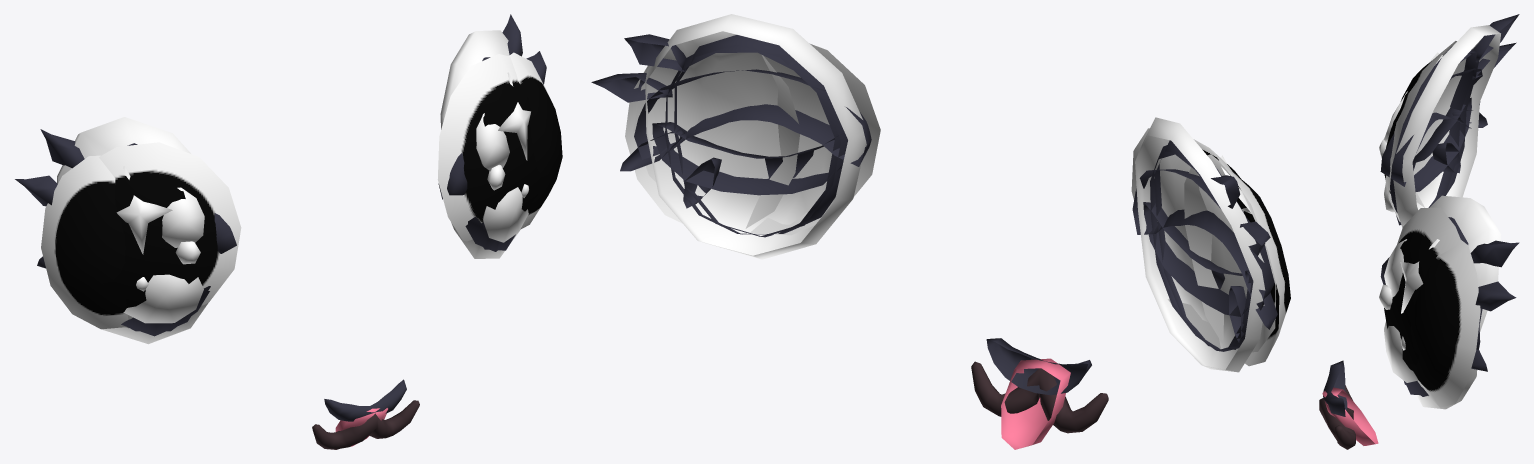
File: bear-attachments-face-alts.fbx
3 renders of one model, left to right at view 1: azimuth 30°, elevation 25°; view 2: azimuth 150°, elevation 25°; view 3: azimuth 270°, elevation 25°, orthographic. The views are drawn at different scales.
Parts seen in each view (by area): view 1: Bear__EyeL_AltRound, Bear__EyeL_AltSmallWide, Bear__EyeR_AltRound, Bear__EyeR_AltSmallWide, Bear__EyeL_AltSparkle_White, Bear__EyeL_AltSparkle_Iris, Bear__EyeR_AltSparkle_White, Bear__Mouth_AltW, Bear__EyeL_AltLash_Shine, Bear__EyeL_AltLash, Bear__EyeL_AltSparkle_Shine, Bear__EyeR_AltSparkle_Iris (+8 smaller); view 2: Bear__EyeR_AltSparkle_White, Bear__EyeL_AltSparkle_White, Bear__EyeR_AltSleepy, Bear__EyeR_AltLash, Bear__EyeL_AltSmallWide, Bear__EyeL_AltSleepy, Bear__EyeR_AltHappy, Bear__Mouth_AltW, Bear__EyeR_AltSmallWide, Bear__Mouth_AltBlep_Tongue, Bear__EyeL_AltHappy, Bear__EyeR_AltRound (+5 smaller); view 3: Bear__EyeR_AltSmallWide, Bear__EyeL_AltSparkle_White, Bear__EyeR_AltRound, Bear__EyeR_AltSparkle_White, Bear__EyeL_AltSleepy, Bear__EyeL_AltLash, Bear__EyeR_AltLash, Bear__EyeL_AltSparkle, Bear__EyeL_AltRound, Bear__EyeL_AltHappy, Bear__Mouth_AltBlep_Tongue, Bear__EyeR_AltSparkle_Iris (+6 smaller).
Part boxes in pixels (x1,y1,x2,y2): Bear__EyeL_AltRound: (99, 142, 241, 328); Bear__EyeL_AltSmallWide: (41, 155, 128, 329); Bear__EyeR_AltRound: (437, 54, 547, 241); Bear__EyeR_AltSmallWide: (508, 52, 562, 229); Bear__EyeL_AltSparkle_White: (57, 117, 208, 344); Bear__EyeL_AltSparkle_Iris: (123, 274, 203, 323); Bear__EyeR_AltSparkle_White: (440, 30, 520, 258); Bear__Mouth_AltW: (312, 400, 419, 449); Bear__EyeL_AltLash_Shine: (136, 187, 204, 291); Bear__EyeL_AltLash: (15, 129, 209, 331); Bear__EyeL_AltSparkle_Shine: (116, 166, 200, 264); Bear__EyeR_AltSparkle_Iris: (483, 187, 528, 242); Bear__EyeR_AltSparkle_White: (645, 14, 866, 259); Bear__EyeL_AltSparkle_White: (1135, 117, 1265, 372); Bear__EyeR_AltSleepy: (620, 122, 844, 208); Bear__EyeR_AltLash: (591, 34, 847, 234); Bear__EyeL_AltSmallWide: (1184, 154, 1290, 366); Bear__EyeL_AltSleepy: (1143, 202, 1277, 342); Bear__EyeR_AltHappy: (634, 69, 871, 166); Bear__Mouth_AltW: (971, 361, 1108, 433); Bear__EyeR_AltSmallWide: (625, 55, 799, 228); Bear__Mouth_AltBlep_Tongue: (1001, 358, 1070, 449); Bear__EyeL_AltHappy: (1132, 169, 1274, 310); Bear__EyeR_AltRound: (633, 43, 880, 235); Bear__EyeR_AltSmallWide: (1410, 240, 1480, 407); Bear__EyeL_AltSparkle_White: (1393, 25, 1500, 227); Bear__EyeR_AltRound: (1384, 207, 1461, 396); Bear__EyeR_AltSparkle_White: (1416, 195, 1501, 409); Bear__EyeL_AltSleepy: (1412, 97, 1487, 191); Bear__EyeL_AltLash: (1390, 14, 1519, 222); Bear__EyeR_AltLash: (1404, 240, 1519, 396); Bear__EyeL_AltSparkle: (1390, 46, 1476, 225); Bear__EyeL_AltRound: (1384, 41, 1456, 221); Bear__EyeL_AltHappy: (1380, 68, 1482, 186); Bear__Mouth_AltBlep_Tongue: (1322, 387, 1378, 445); Bear__EyeR_AltSparkle_Iris: (1384, 321, 1418, 382).
Size of the model in its own units: 64.16 by 39.05 by 21.32.
